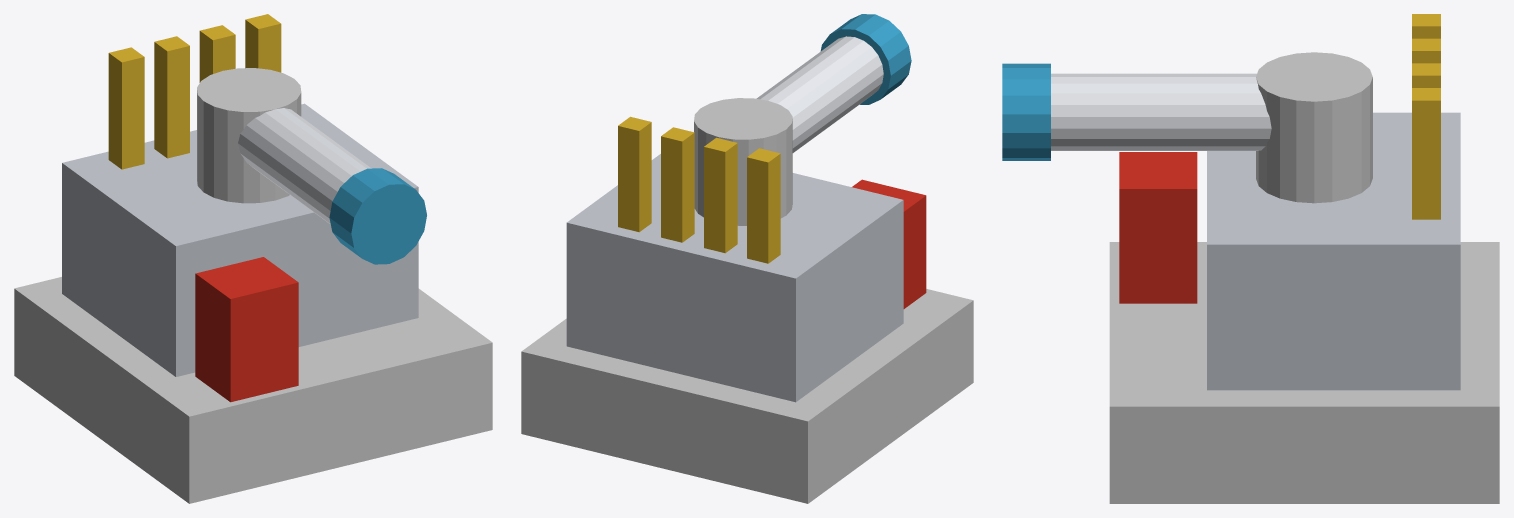
File: laser_defense.obj
3 renders of one model, left to right at view 1: azimuth 30°, elevation 25°; view 2: azimuth 150°, elevation 25°; view 3: azimuth 270°, elevation 25°, orthographic. The views are drawn at different scales.
Visible parts, largest first — view 1: laser_defense; view 2: laser_defense; view 3: laser_defense.
Boxes of the visible parts, x1,y1,x2,y2 form: laser_defense: (14, 14, 492, 503); laser_defense: (521, 14, 973, 503); laser_defense: (1002, 14, 1499, 503).
Bounding box in the file's own units: 0.8 × 0.82 × 1.02.
